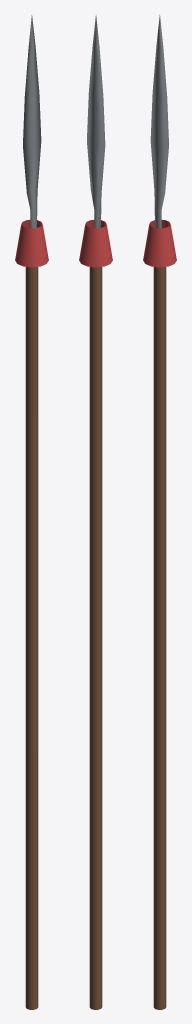
File: Gorkha_Bhala_Spear.fbx
3 views of the same model, side by side, from view 1: azimuth 30°, elevation 25°; view 2: azimuth 150°, elevation 25°; view 3: azimuth 330°, elevation 25° (orthographic).
Visible parts, largest first — view 1: Gorkha_Bhala_Spear; view 2: Gorkha_Bhala_Spear; view 3: Gorkha_Bhala_Spear.
Part boxes in pixels (x1,y1,x2,y2): Gorkha_Bhala_Spear: (15,15,48,1009); Gorkha_Bhala_Spear: (79,15,112,1009); Gorkha_Bhala_Spear: (143,15,176,1009).
Bounding box in the file's own units: 0.076 × 2.46 × 0.076.
